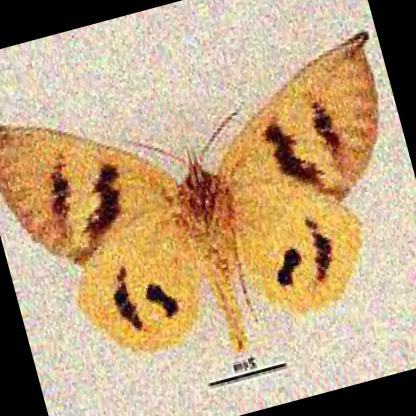fruit sucking moth: (0, 35, 378, 355)
